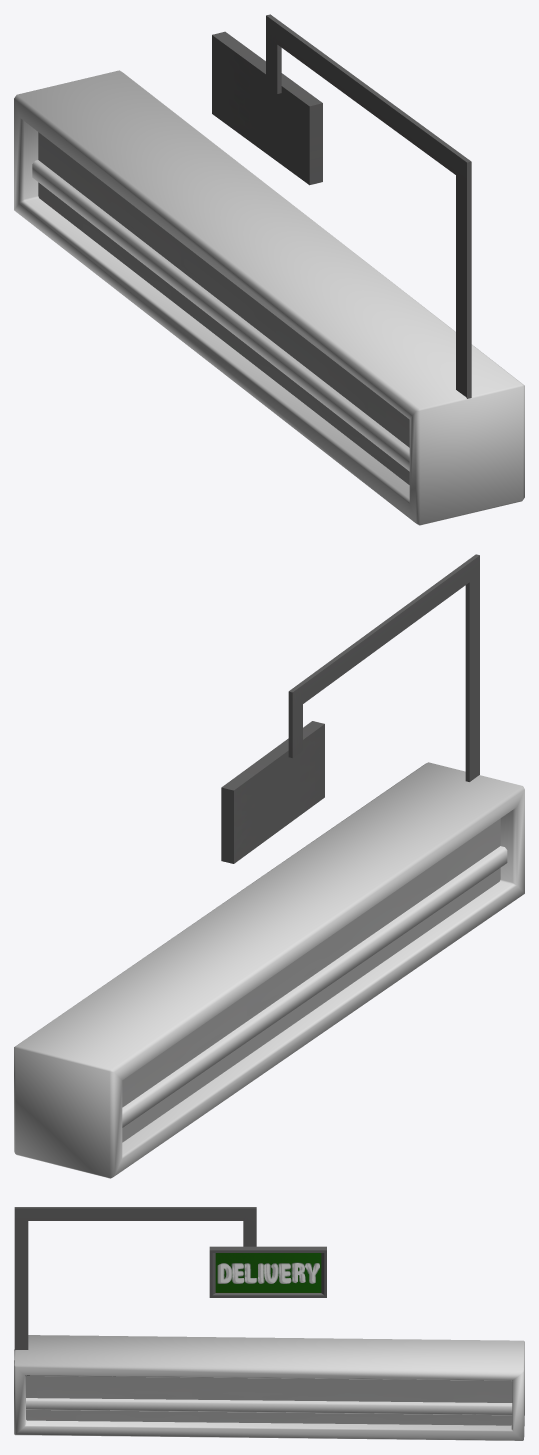
The model's file is Delivery_Desk.fbx.
The picture shows the model from 3 angles, top to bottom: view 1: azimuth 30°, elevation 25°; view 2: azimuth 150°, elevation 25°; view 3: azimuth 270°, elevation 25°; orthographic projection. The views are drawn at different scales.
Parts seen in each view (by area): view 1: SM_Delivery_Desk; view 2: SM_Delivery_Desk; view 3: SM_Delivery_Desk.
Boxes of the visible parts, box(x1,y1,x2,y2) form: SM_Delivery_Desk: box(14, 14, 524, 525); SM_Delivery_Desk: box(14, 554, 524, 1178); SM_Delivery_Desk: box(14, 1207, 524, 1440).
Size of the model in its own units: 151 by 398 by 870.
